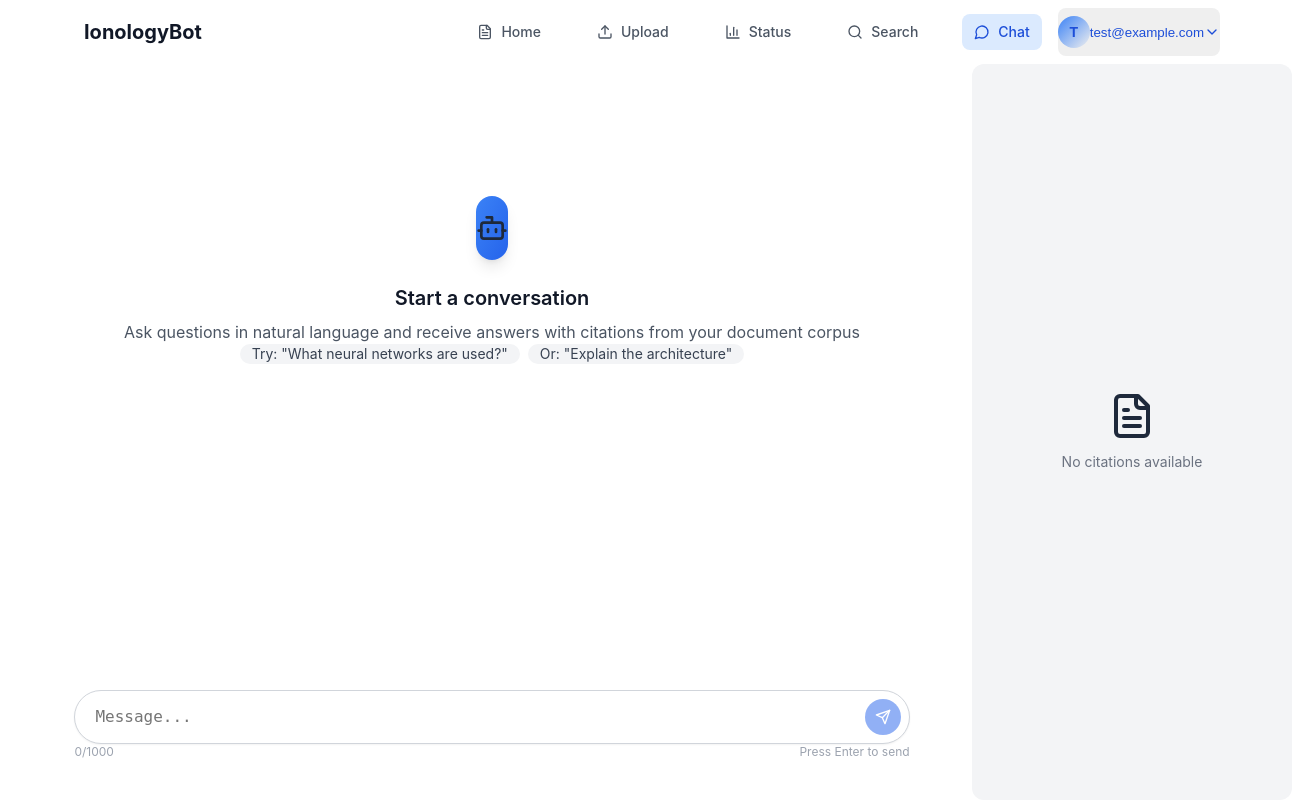
Scenario: Chat Integration Tests › displays user-friendly error message when network error occurs
The image size is (1292, 800).
Type "test message" into the text box with placeholder "Message..." at [492, 717], box [75, 691, 909, 743]
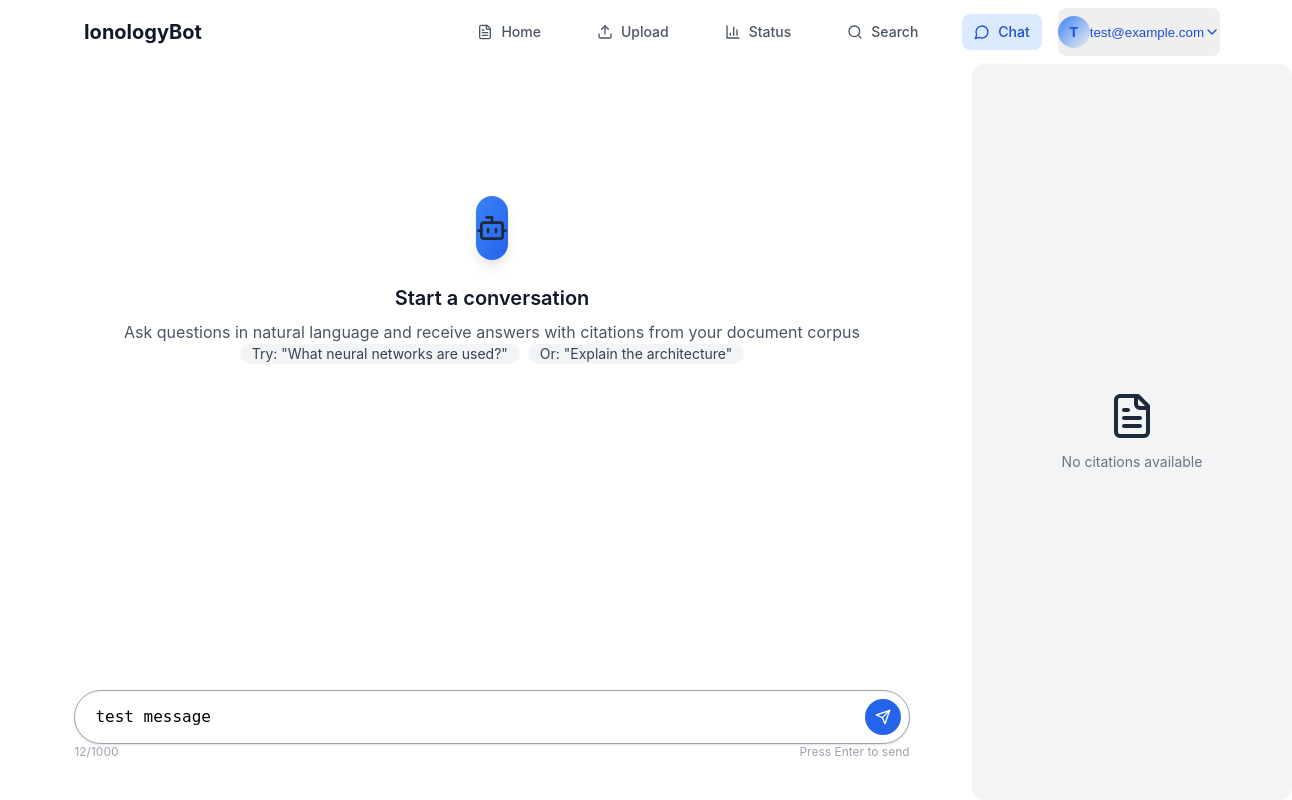
Click the submit button at [883, 717], box [865, 699, 901, 735]
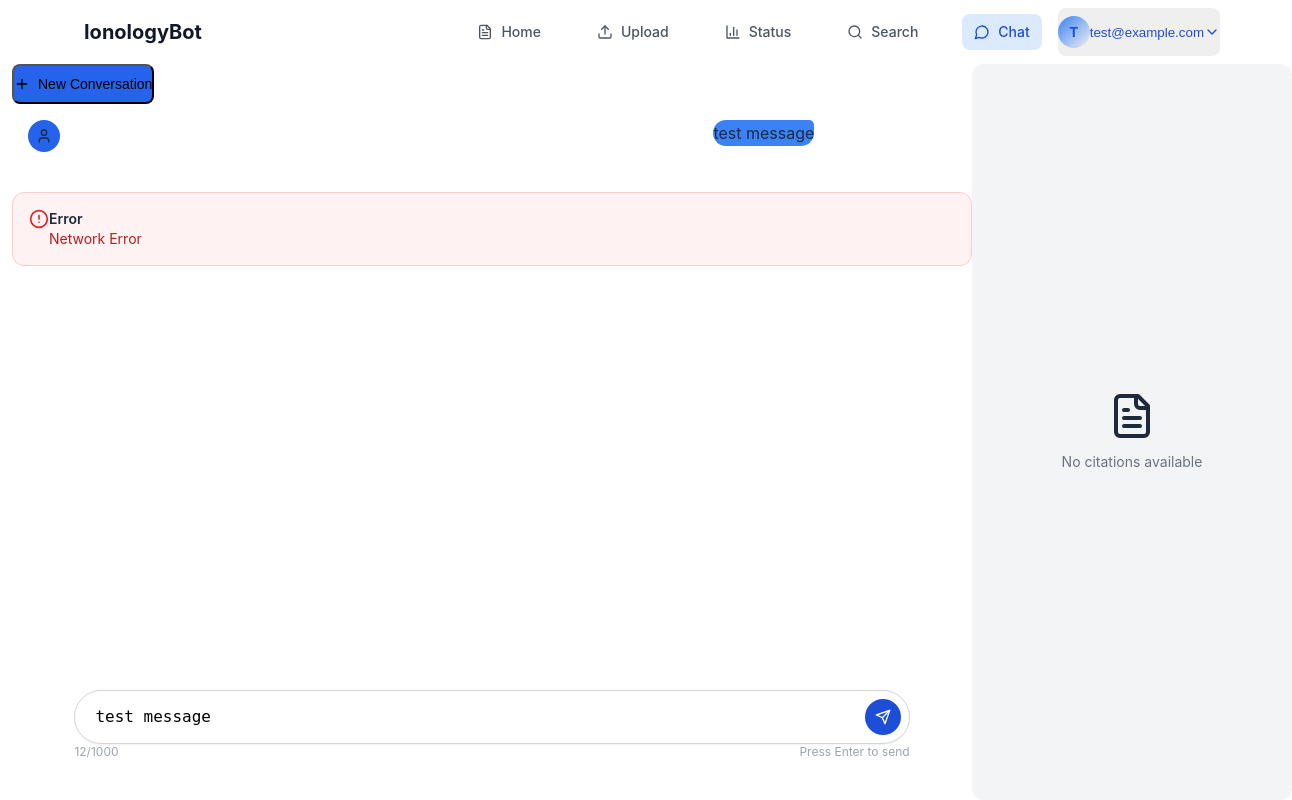
expect the heading "Error" is shown: met, box [49, 210, 82, 227]
expect the text "Network Error" is shown: met, box [49, 230, 142, 247]
